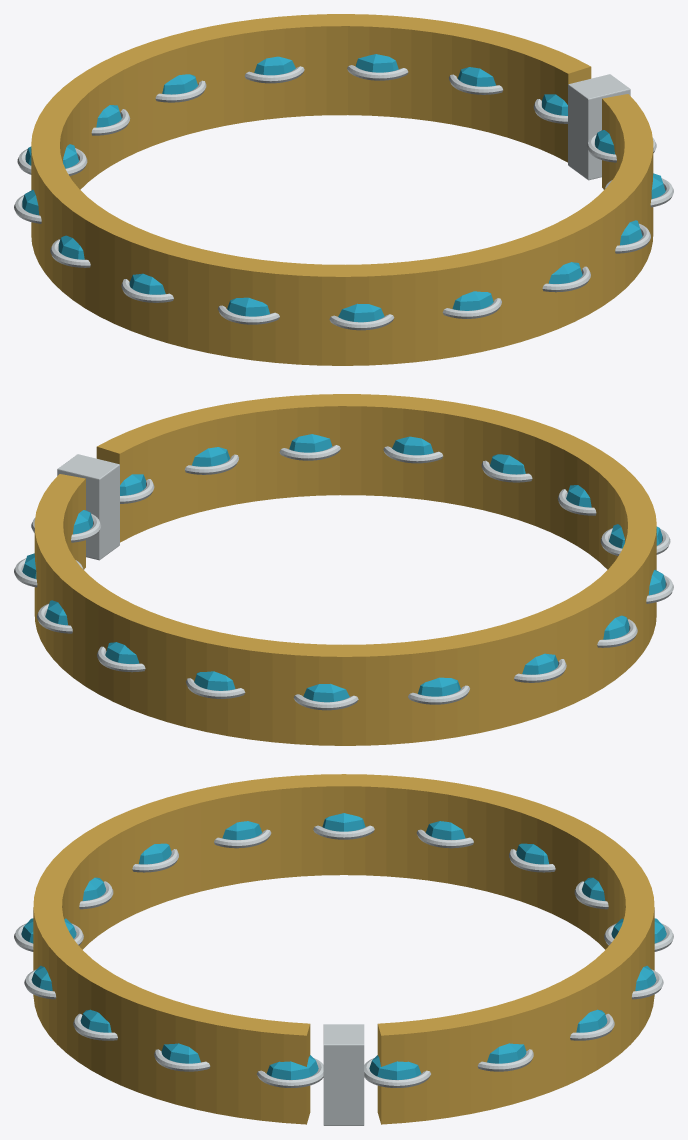
The picture shows the model from 3 angles, top to bottom: view 1: azimuth 30°, elevation 25°; view 2: azimuth 150°, elevation 25°; view 3: azimuth 270°, elevation 25°; orthographic projection.
Visible parts, largest first — view 1: TI023 / pierced gold collar, TI023 / white gold clasp, TI023 / blue opal setting 11, TI023 / blue opal setting 10, TI023 / blue opal setting 2, TI023 / blue opal setting 12, TI023 / blue opal setting 3, TI023 / white gold opal rim.011, TI023 / blue opal setting 1, TI023 / blue opal setting 9, TI023 / white gold opal rim.010, TI023 / blue opal setting 4 (+4 smaller); view 2: TI023 / pierced gold collar, TI023 / white gold clasp, TI023 / blue opal setting 5, TI023 / blue opal setting 6, TI023 / blue opal setting 14, TI023 / blue opal setting 4, TI023 / blue opal setting 13, TI023 / white gold opal rim.005, TI023 / blue opal setting 15, TI023 / blue opal setting 7, TI023 / white gold opal rim.006, TI023 / blue opal setting 12 (+4 smaller); view 3: TI023 / pierced gold collar, TI023 / white gold clasp, TI023 / blue opal setting 0, TI023 / blue opal setting 16, TI023 / white gold opal rim, TI023 / white gold opal rim.016, TI023 / blue opal setting 8, TI023 / blue opal setting 1, TI023 / blue opal setting 15, TI023 / blue opal setting 7, TI023 / blue opal setting 9, TI023 / white gold opal rim.008 (+4 smaller).
Part boxes in pixels (left/top/right/bottom): TI023 / pierced gold collar: left=31, top=14, right=653, bottom=365; TI023 / white gold clasp: left=568, top=74, right=630, bottom=180; TI023 / blue opal setting 11: left=338, top=303, right=384, bottom=322; TI023 / blue opal setting 10: left=227, top=297, right=269, bottom=316; TI023 / blue opal setting 2: left=355, top=54, right=398, bottom=72; TI023 / blue opal setting 12: left=452, top=291, right=493, bottom=310; TI023 / blue opal setting 3: left=254, top=56, right=295, bottom=75; TI023 / white gold opal rim.011: left=329, top=314, right=394, bottom=330; TI023 / blue opal setting 1: left=457, top=67, right=495, bottom=86; TI023 / blue opal setting 9: left=129, top=273, right=165, bottom=294; TI023 / white gold opal rim.010: left=218, top=305, right=279, bottom=324; TI023 / blue opal setting 4: left=162, top=74, right=197, bottom=94; TI023 / pierced gold collar: left=34, top=394, right=656, bottom=745; TI023 / white gold clasp: left=57, top=454, right=119, bottom=560; TI023 / blue opal setting 5: left=303, top=683, right=349, bottom=702; TI023 / blue opal setting 6: left=418, top=677, right=460, bottom=696; TI023 / blue opal setting 14: left=289, top=434, right=332, bottom=452; TI023 / blue opal setting 4: left=194, top=671, right=235, bottom=690; TI023 / blue opal setting 13: left=392, top=436, right=433, bottom=455; TI023 / white gold opal rim.005: left=293, top=694, right=358, bottom=710; TI023 / blue opal setting 15: left=192, top=447, right=230, bottom=466; TI023 / blue opal setting 7: left=522, top=653, right=558, bottom=674; TI023 / white gold opal rim.006: left=408, top=685, right=469, bottom=704; TI023 / blue opal setting 12: left=490, top=454, right=525, bottom=474; TI023 / pierced gold collar: left=33, top=774, right=654, bottom=1124; TI023 / white gold clasp: left=323, top=1024, right=364, bottom=1125; TI023 / blue opal setting 0: left=369, top=1055, right=421, bottom=1079; TI023 / blue opal setting 16: left=266, top=1055, right=318, bottom=1079; TI023 / white gold opal rim: left=364, top=1058, right=430, bottom=1087; TI023 / white gold opal rim.016: left=257, top=1058, right=323, bottom=1087; TI023 / blue opal setting 8: left=322, top=813, right=365, bottom=831; TI023 / blue opal setting 1: left=487, top=1043, right=526, bottom=1063; TI023 / blue opal setting 15: left=161, top=1043, right=200, bottom=1063; TI023 / blue opal setting 7: left=425, top=821, right=465, bottom=839; TI023 / blue opal setting 9: left=222, top=821, right=262, bottom=839; TI023 / white gold opal rim.008: left=313, top=825, right=374, bottom=839.
Size of the model in its own units: 3.22 by 0.48 by 3.23.
